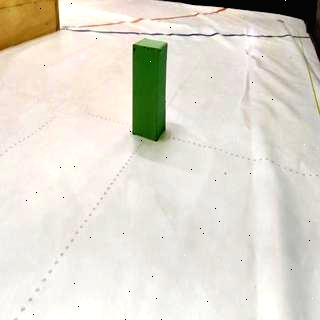greenbox: (132, 38, 170, 140)
